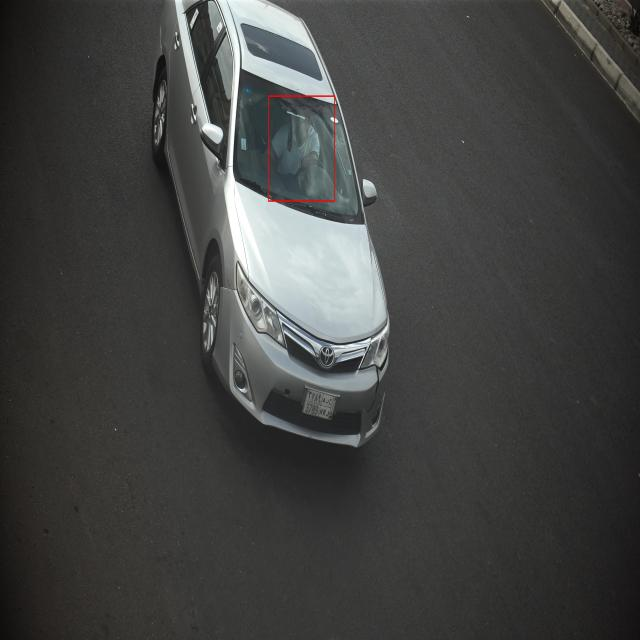windshield: (231, 68, 368, 224)
